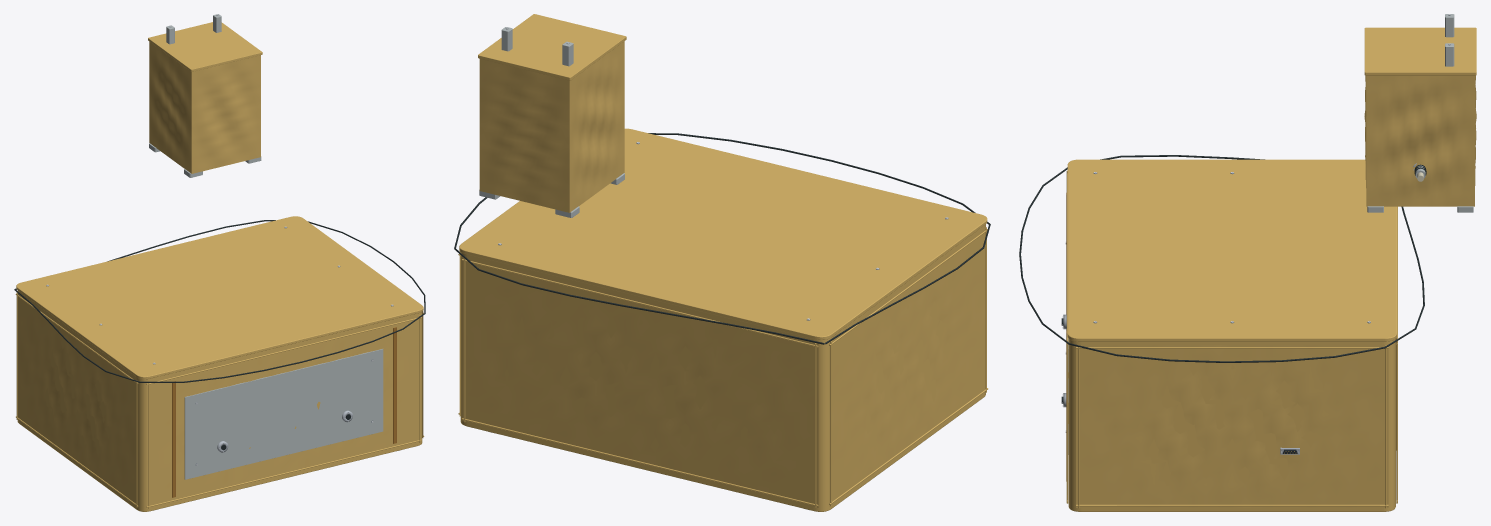
File: phoenix-avionics.glb
3 views of the same model, side by side, from view 1: azimuth 30°, elevation 25°; view 2: azimuth 150°, elevation 25°; view 3: azimuth 270°, elevation 25° (orthographic). The views are drawn at different scales.
Parts seen in each view (by area): view 1: CHASSIS_COVER_Phoenix_gold_multilayer_thermal_blanket, CHASSIS_BLANKET_FRONT_1_Phoenix_gold_multilayer_thermal_blan, CHASSIS_SERVICE_PANEL_Phoenix_machined_aluminium, CHASSIS_BLANKET_SIDE_-1_Phoenix_gold_multilayer_thermal_blan, UPPER_PEB_STRUCTURE_Phoenix_gold_multilayer_thermal_blanket, CHASSIS_Phoenix_gold_multilayer_thermal_blanket, UPPER_PEB_COVER_Phoenix_gold_multilayer_thermal_blanket, CHASSIS_GASKET_Phoenix_black_anodized_aluminium, CHASSIS_THERMAL_SEAMS_Phoenix_polyimide_blanket_seam; view 2: CHASSIS_COVER_Phoenix_gold_multilayer_thermal_blanket, CHASSIS_BLANKET_FRONT_-1_Phoenix_gold_multilayer_thermal_bla, CHASSIS_BLANKET_SIDE_-1_Phoenix_gold_multilayer_thermal_blan, UPPER_PEB_STRUCTURE_Phoenix_gold_multilayer_thermal_blanket, CHASSIS_Phoenix_gold_multilayer_thermal_blanket, UPPER_PEB_COVER_Phoenix_gold_multilayer_thermal_blanket, CHASSIS_GASKET_Phoenix_black_anodized_aluminium; view 3: CHASSIS_COVER_Phoenix_gold_multilayer_thermal_blanket, CHASSIS_BLANKET_SIDE_1_Phoenix_gold_multilayer_thermal_blank, UPPER_PEB_STRUCTURE_Phoenix_gold_multilayer_thermal_blanket, CHASSIS_Phoenix_gold_multilayer_thermal_blanket, UPPER_PEB_COVER_Phoenix_gold_multilayer_thermal_blanket, CHASSIS_GASKET_Phoenix_black_anodized_aluminium, CHASSIS_BLANKET_FRONT_1_Phoenix_gold_multilayer_thermal_blan.
Part boxes in pixels (bbox=[...]): CHASSIS_COVER_Phoenix_gold_multilayer_thermal_blanket: bbox=[16, 216, 423, 379]; CHASSIS_BLANKET_FRONT_1_Phoenix_gold_multilayer_thermal_blan: bbox=[146, 315, 421, 508]; CHASSIS_SERVICE_PANEL_Phoenix_machined_aluminium: bbox=[184, 349, 383, 479]; CHASSIS_BLANKET_SIDE_-1_Phoenix_gold_multilayer_thermal_blan: bbox=[15, 292, 138, 507]; UPPER_PEB_STRUCTURE_Phoenix_gold_multilayer_thermal_blanket: bbox=[149, 41, 260, 173]; CHASSIS_Phoenix_gold_multilayer_thermal_blanket: bbox=[17, 290, 422, 511]; UPPER_PEB_COVER_Phoenix_gold_multilayer_thermal_blanket: bbox=[148, 22, 262, 71]; CHASSIS_GASKET_Phoenix_black_anodized_aluminium: bbox=[14, 220, 425, 382]; CHASSIS_THERMAL_SEAMS_Phoenix_polyimide_blanket_seam: bbox=[172, 327, 396, 497]; CHASSIS_COVER_Phoenix_gold_multilayer_thermal_blanket: bbox=[459, 128, 987, 339]; CHASSIS_BLANKET_FRONT_-1_Phoenix_gold_multilayer_thermal_bla: bbox=[462, 257, 818, 507]; CHASSIS_BLANKET_SIDE_-1_Phoenix_gold_multilayer_thermal_blan: bbox=[829, 227, 988, 506]; UPPER_PEB_STRUCTURE_Phoenix_gold_multilayer_thermal_blanket: bbox=[479, 41, 624, 212]; CHASSIS_Phoenix_gold_multilayer_thermal_blanket: bbox=[460, 224, 985, 511]; UPPER_PEB_COVER_Phoenix_gold_multilayer_thermal_blanket: bbox=[478, 14, 626, 80]; CHASSIS_GASKET_Phoenix_black_anodized_aluminium: bbox=[454, 133, 990, 344]; CHASSIS_COVER_Phoenix_gold_multilayer_thermal_blanket: bbox=[1067, 159, 1396, 341]; CHASSIS_BLANKET_SIDE_1_Phoenix_gold_multilayer_thermal_blank: bbox=[1076, 345, 1388, 508]; UPPER_PEB_STRUCTURE_Phoenix_gold_multilayer_thermal_blanket: bbox=[1364, 75, 1476, 206]; CHASSIS_Phoenix_gold_multilayer_thermal_blanket: bbox=[1068, 339, 1395, 511]; UPPER_PEB_COVER_Phoenix_gold_multilayer_thermal_blanket: bbox=[1364, 27, 1476, 75]; CHASSIS_GASKET_Phoenix_black_anodized_aluminium: bbox=[1019, 155, 1424, 362]; CHASSIS_BLANKET_FRONT_1_Phoenix_gold_multilayer_thermal_blan: bbox=[1066, 170, 1068, 503].
Size of the model in its own units: 0.6768 by 0.6684 by 0.6316.
